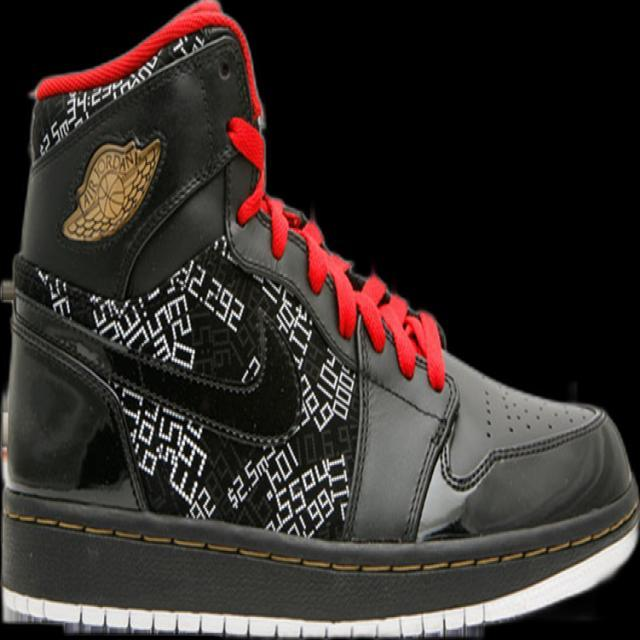J1_InsoleChar: (0, 0, 639, 639)
J1_ShoeLogo: (58, 132, 164, 244)
J1_StitchPattern: (1, 267, 638, 581), (9, 248, 361, 539), (1, 497, 639, 577), (106, 371, 354, 538), (265, 195, 449, 390), (13, 251, 267, 381), (30, 22, 229, 159), (0, 588, 487, 639), (475, 378, 592, 441)
